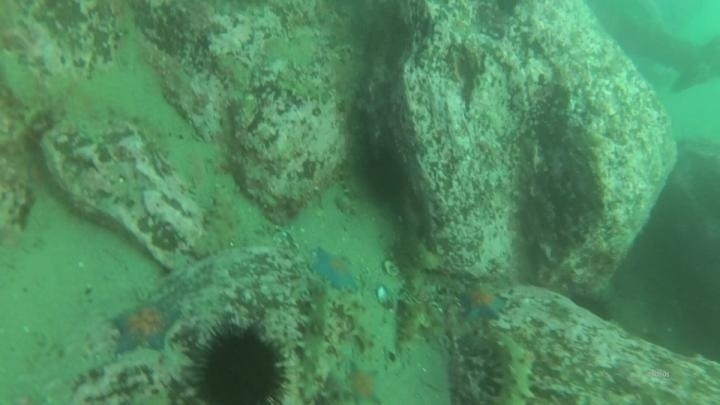echinus: (188, 322, 292, 405), (359, 146, 411, 205)
holothurian: (293, 280, 338, 402), (335, 292, 398, 372), (187, 176, 242, 262), (486, 330, 539, 404), (392, 295, 434, 356), (272, 72, 333, 107)
starfish: (108, 296, 183, 357), (309, 245, 363, 294), (456, 281, 509, 323), (342, 362, 386, 405)
